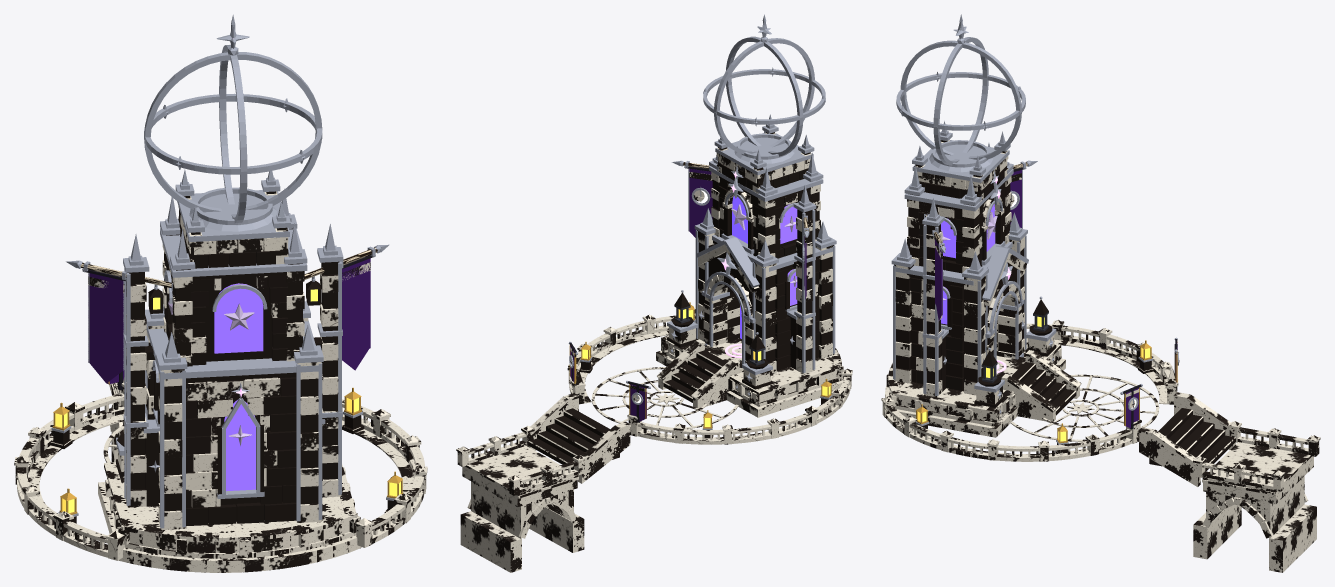
Rendered from ILHA3_06_SUMMON_ac1e1a.fbx.
The picture shows the model from 3 angles, left to right: view 1: azimuth 30°, elevation 25°; view 2: azimuth 150°, elevation 25°; view 3: azimuth 270°, elevation 25°; orthographic projection. The views are drawn at different scales.
Parts seen in each view (by area): view 1: SG_Sum_Tower_Silver__Metal_SG_Silver, SG_Sum_Tower_Stone__Stone_SG_Castle, SG_Sum_Tower_Stone__Stone_SG_Block, SG_Sum_Sphere_Frame__Metal_SG_Silver, SG_Sum_Tower_Banners__Cloth_SG_Purple, SG_Sum_Tower_Glow__SG_SumPortal_Glow, SG_Sum_Balustrade__Stone_SG_Trim, SG_Sum_Tower_Stone__Stone_SG_Floor, SG_Sum_Base__Stone_SG_Block_B, SG_Sum_BaseTrim__Stone_SG_Trim, SG_Sum_Base__Stone_SG_Floor, SG_Sum_Balustrade__Stone_SG_Block (+10 smaller); view 2: SG_Sum_Tower_Silver__Metal_SG_Silver, SG_Sum_Tower_Stone__Stone_SG_Castle, SG_Sum_Tower_Stone__Stone_SG_Block, SG_Sum_Bridge__Stone_SG_Block, SG_Sum_Sphere_Frame__Metal_SG_Silver, SG_Sum_Bridge__Stone_Paving_SG, SG_Sum_Balustrade__Stone_SG_Trim, SG_Sum_Balustrade__Stone_SG_Block, SG_Sum_Balustrade__Stone_SG_Block_B, SG_Sum_Base__Stone_Paving_SG, SG_Sum_Bridge__Stone_SG_Trim, SG_Sum_Base__Stone_SG_Block (+11 smaller); view 3: SG_Sum_Tower_Silver__Metal_SG_Silver, SG_Sum_Tower_Stone__Stone_SG_Castle, SG_Sum_Tower_Stone__Stone_SG_Block, SG_Sum_Bridge__Stone_SG_Block, SG_Sum_Sphere_Frame__Metal_SG_Silver, SG_Sum_Bridge__Stone_Paving_SG, SG_Sum_Balustrade__Stone_SG_Trim, SG_Sum_Balustrade__Stone_SG_Block_B, SG_Sum_Balustrade__Stone_SG_Block, SG_Sum_Bridge__Stone_SG_Trim, SG_Sum_FloorInlay__Stone_SG_Floor, SG_Sum_Base__Stone_Paving_SG (+11 smaller).
Part boxes in pixels (bbox=[...]): SG_Sum_Tower_Silver__Metal_SG_Silver: bbox=[66, 169, 389, 528]; SG_Sum_Tower_Stone__Stone_SG_Castle: bbox=[127, 191, 339, 526]; SG_Sum_Tower_Stone__Stone_SG_Block: bbox=[118, 191, 340, 529]; SG_Sum_Sphere_Frame__Metal_SG_Silver: bbox=[144, 14, 322, 223]; SG_Sum_Tower_Banners__Cloth_SG_Purple: bbox=[88, 258, 370, 383]; SG_Sum_Tower_Glow__SG_SumPortal_Glow: bbox=[214, 283, 263, 491]; SG_Sum_Balustrade__Stone_SG_Trim: bbox=[14, 377, 427, 543]; SG_Sum_Tower_Stone__Stone_SG_Floor: bbox=[116, 240, 322, 522]; SG_Sum_Base__Stone_SG_Block_B: bbox=[105, 479, 361, 572]; SG_Sum_BaseTrim__Stone_SG_Trim: bbox=[104, 462, 357, 541]; SG_Sum_Base__Stone_SG_Floor: bbox=[105, 476, 356, 558]; SG_Sum_Balustrade__Stone_SG_Block: bbox=[15, 382, 426, 557]; SG_Sum_Tower_Silver__Metal_SG_Silver: bbox=[667, 114, 836, 381]; SG_Sum_Tower_Stone__Stone_SG_Castle: bbox=[674, 132, 832, 370]; SG_Sum_Tower_Stone__Stone_SG_Block: bbox=[669, 133, 834, 385]; SG_Sum_Bridge__Stone_SG_Block: bbox=[460, 398, 630, 572]; SG_Sum_Sphere_Frame__Metal_SG_Silver: bbox=[703, 14, 825, 156]; SG_Sum_Bridge__Stone_Paving_SG: bbox=[465, 408, 619, 495]; SG_Sum_Balustrade__Stone_SG_Trim: bbox=[456, 309, 852, 483]; SG_Sum_Balustrade__Stone_SG_Block: bbox=[520, 320, 850, 492]; SG_Sum_Balustrade__Stone_SG_Block_B: bbox=[457, 316, 851, 495]; SG_Sum_Base__Stone_Paving_SG: bbox=[663, 338, 743, 402]; SG_Sum_Bridge__Stone_SG_Trim: bbox=[467, 393, 630, 538]; SG_Sum_Base__Stone_SG_Block: bbox=[656, 349, 843, 417]; SG_Sum_Tower_Silver__Metal_SG_Silver: bbox=[891, 121, 1056, 398]; SG_Sum_Tower_Stone__Stone_SG_Castle: bbox=[896, 140, 1048, 391]; SG_Sum_Tower_Stone__Stone_SG_Block: bbox=[894, 140, 1054, 404]; SG_Sum_Bridge__Stone_SG_Block: bbox=[1139, 398, 1316, 572]; SG_Sum_Sphere_Frame__Metal_SG_Silver: bbox=[896, 14, 1025, 165]; SG_Sum_Bridge__Stone_Paving_SG: bbox=[1149, 408, 1311, 492]; SG_Sum_Balustrade__Stone_SG_Trim: bbox=[881, 320, 1320, 479]; SG_Sum_Balustrade__Stone_SG_Block_B: bbox=[882, 331, 1319, 491]; SG_Sum_Balustrade__Stone_SG_Block: bbox=[890, 326, 1308, 477]; SG_Sum_Bridge__Stone_SG_Trim: bbox=[1138, 392, 1307, 538]; SG_Sum_FloorInlay__Stone_SG_Floor: bbox=[1010, 374, 1159, 441]; SG_Sum_Base__Stone_Paving_SG: bbox=[996, 355, 1076, 415].
Size of the model in its own units: 45.58 by 77.6 by 64.2.
12 materials, 2 textured.
